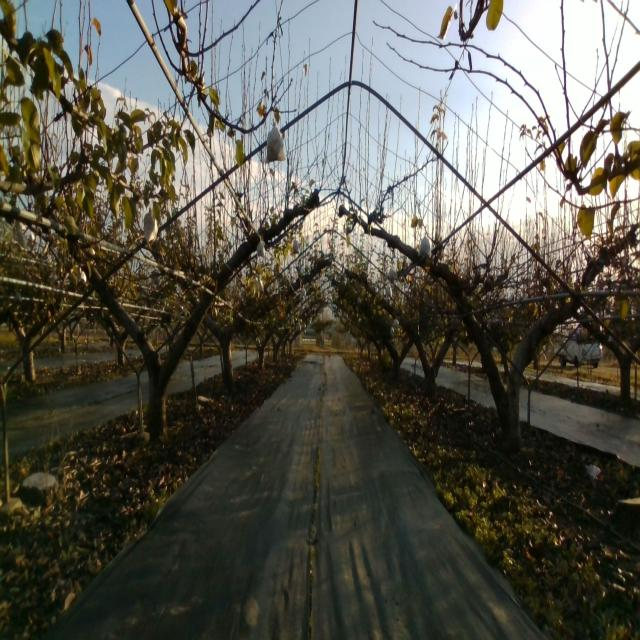pearbags: (266, 118, 287, 162), (143, 208, 159, 245), (418, 231, 432, 258)
